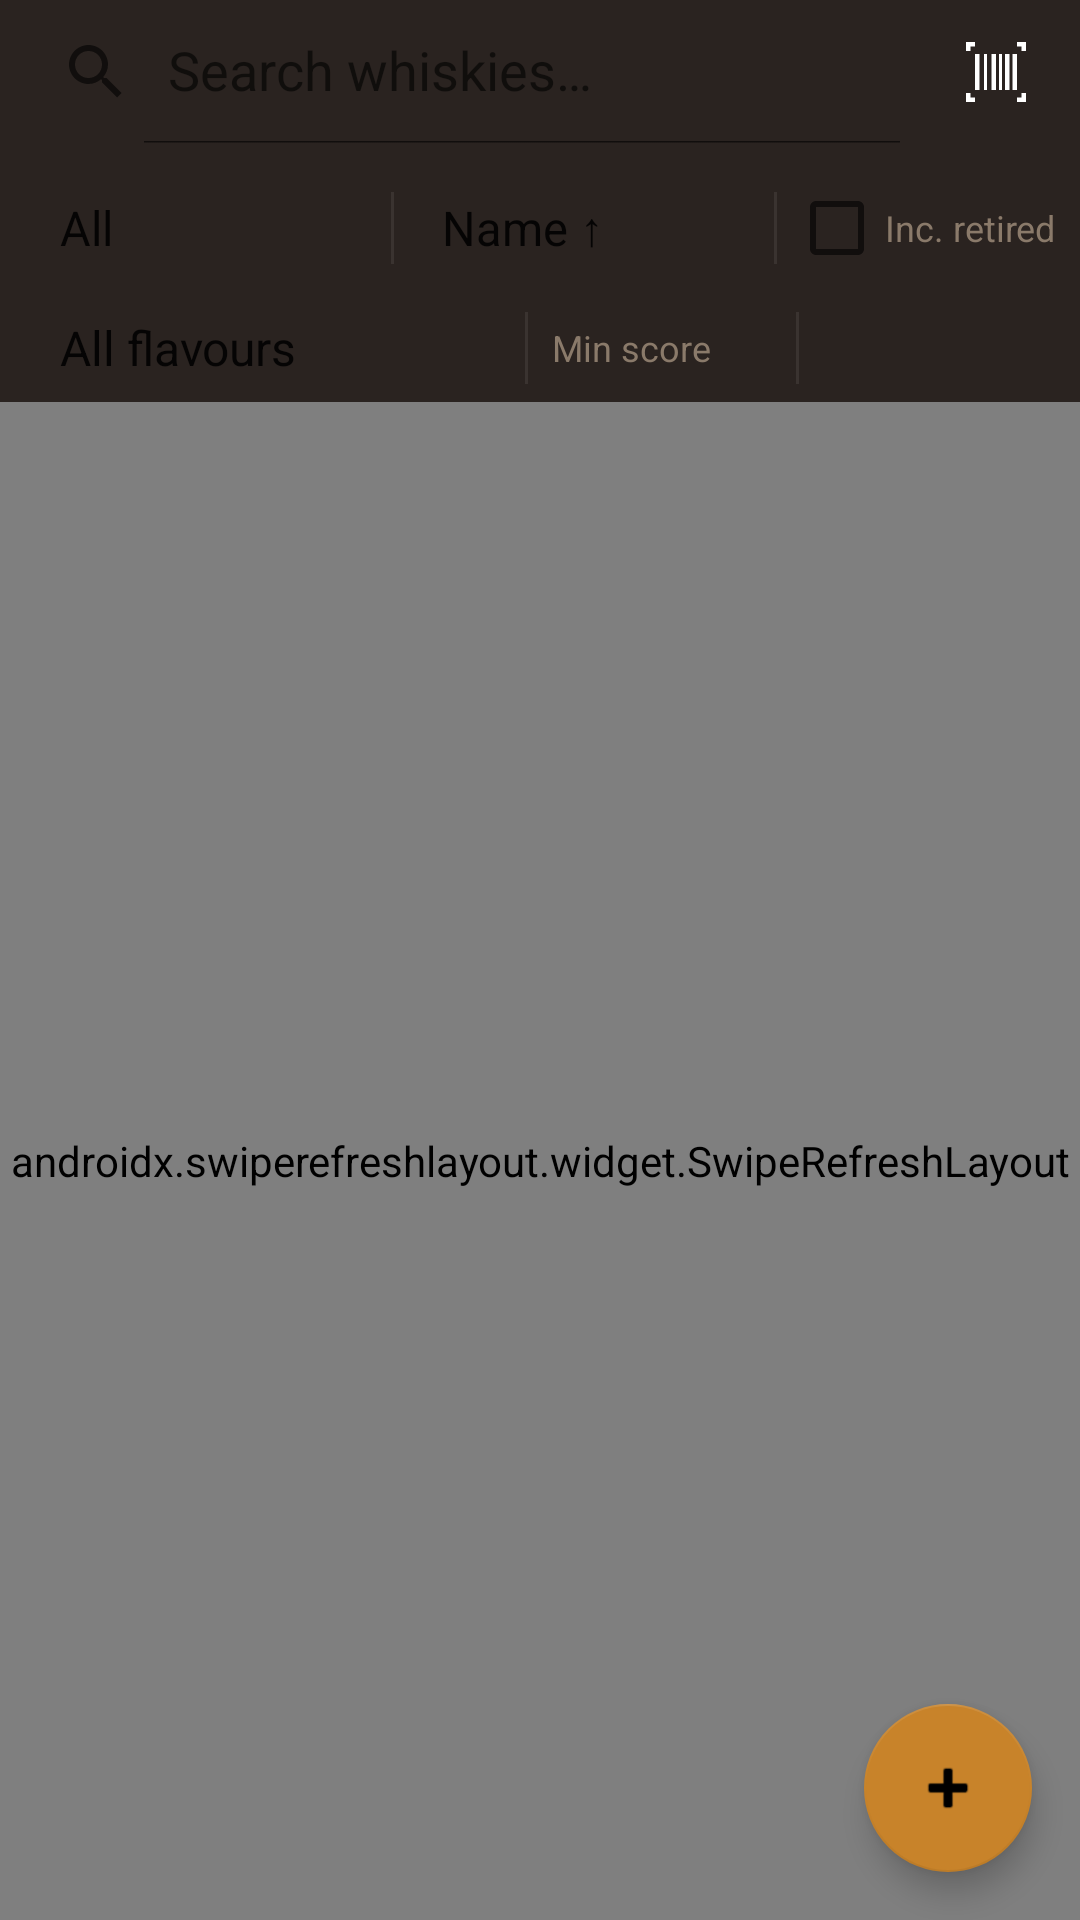

Icon bounding boxes for this 1080 x 1920 phone screenshot, format [x1,y1,x2,y2]:
Add whisky: [864,1704,1032,1872]
Search by barcode: [966,42,1026,102]
